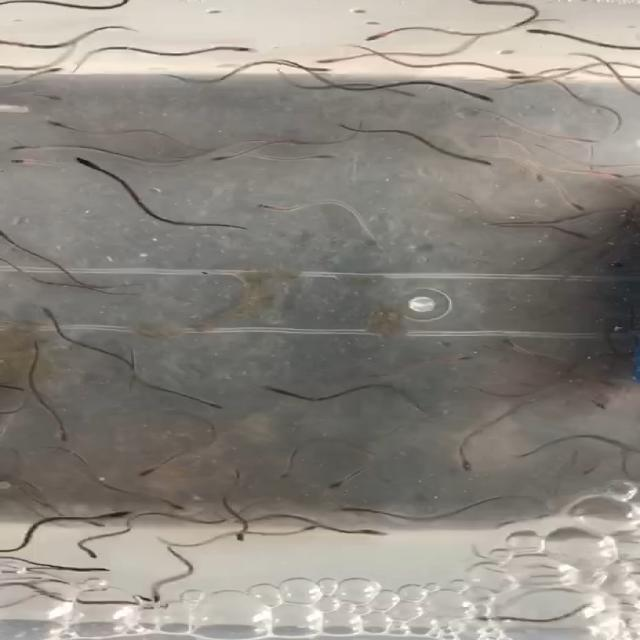active_glass_eel: (344, 30, 402, 48), (332, 495, 378, 516), (458, 152, 508, 170), (130, 588, 176, 606), (191, 392, 226, 414), (373, 81, 420, 97), (350, 524, 400, 539), (464, 609, 508, 626), (73, 567, 122, 582), (70, 153, 118, 168), (48, 552, 84, 572), (259, 468, 303, 484), (12, 88, 62, 102), (299, 517, 347, 531), (55, 426, 88, 446), (0, 153, 40, 169), (63, 548, 116, 560), (138, 488, 164, 511), (464, 87, 499, 104), (34, 63, 71, 79), (247, 477, 278, 496), (132, 462, 160, 483), (597, 167, 630, 184), (0, 382, 35, 398), (260, 381, 286, 402), (252, 197, 286, 213), (222, 527, 258, 542), (437, 57, 472, 72), (304, 53, 347, 65), (103, 508, 137, 523), (601, 64, 640, 77), (506, 68, 531, 88), (451, 353, 482, 369), (11, 140, 46, 154), (237, 40, 264, 58), (578, 460, 608, 476), (130, 597, 162, 612), (453, 456, 487, 470), (47, 120, 86, 132), (487, 336, 520, 350), (90, 510, 110, 533), (524, 172, 559, 185), (325, 479, 359, 492), (204, 153, 243, 164), (560, 227, 592, 240), (524, 24, 557, 36), (310, 59, 336, 74), (32, 306, 64, 318), (0, 227, 22, 244), (582, 133, 611, 145), (565, 198, 591, 211), (303, 54, 332, 65), (0, 59, 31, 69), (303, 151, 330, 162)
